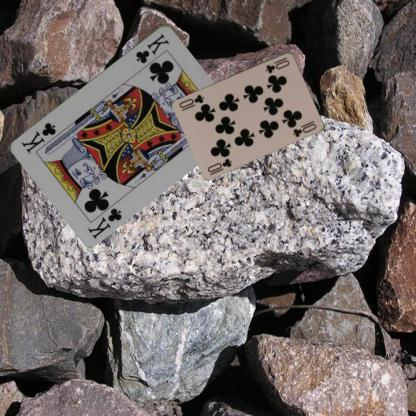10c: (205, 156, 234, 177), (263, 54, 291, 74)
Kc: (85, 204, 124, 240), (133, 30, 170, 64)
